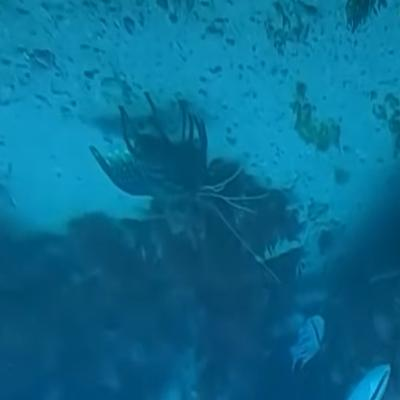lobster: (92, 102, 214, 208)
